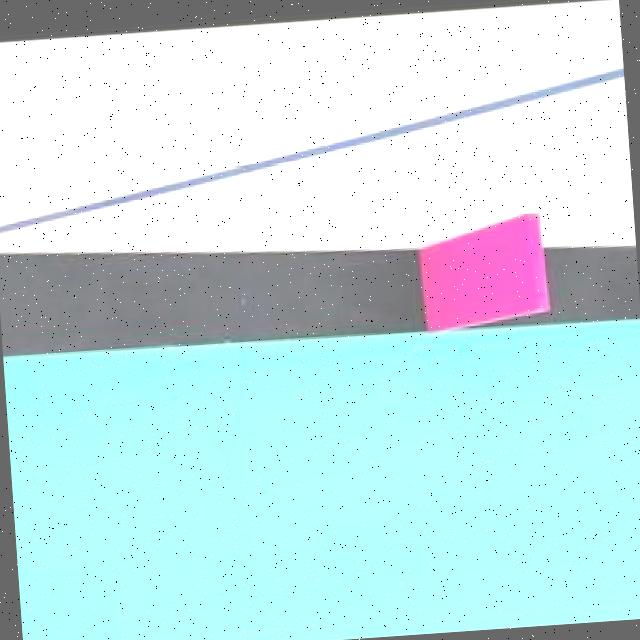xparking: (421, 208, 545, 314)
